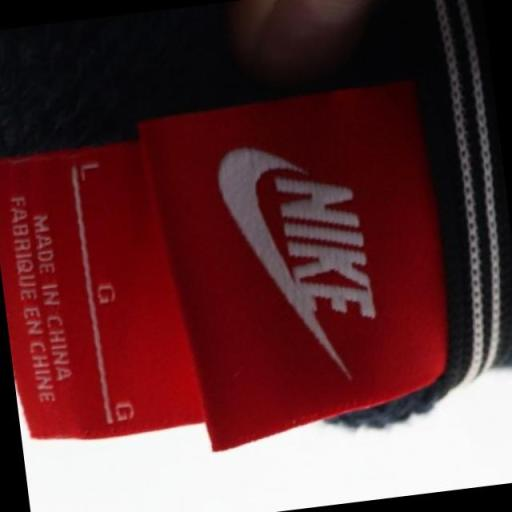Nike: (211, 139, 316, 346), (270, 165, 378, 330)
